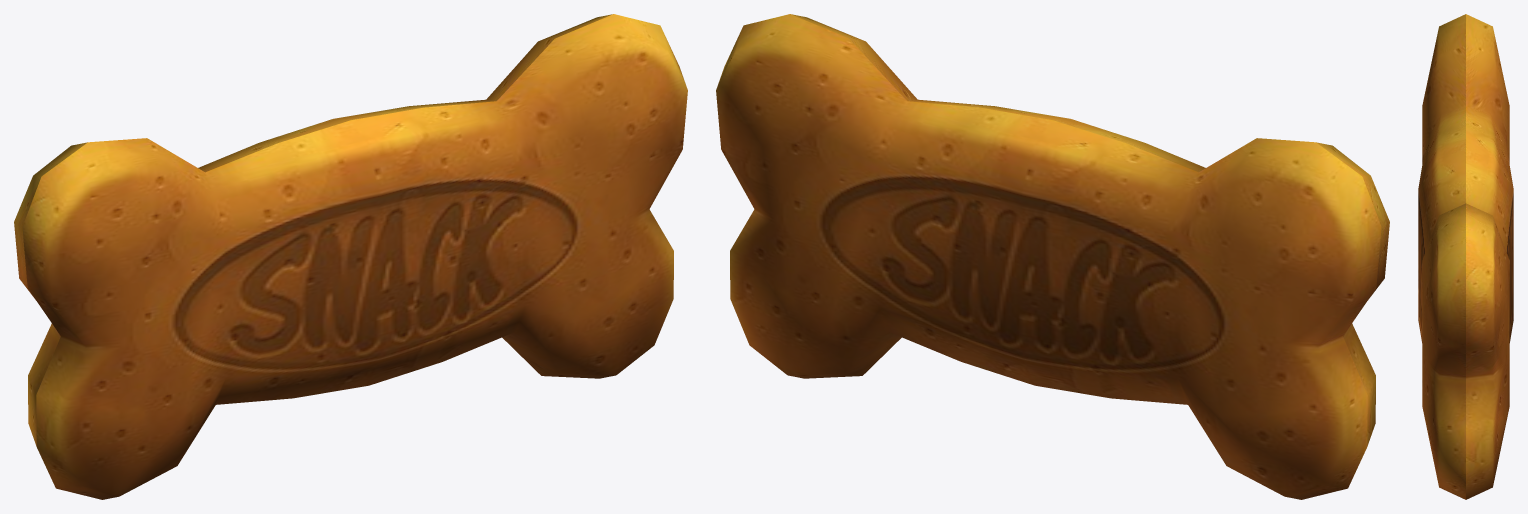
File: snack.obj
3 views of the same model, side by side, from view 1: azimuth 30°, elevation 25°; view 2: azimuth 150°, elevation 25°; view 3: azimuth 270°, elevation 25° (orthographic). The views are drawn at different scales.
Parts seen in each view (by area): view 1: bonenergy; view 2: bonenergy; view 3: bonenergy.
Part boxes in pixels (x1=…): bonenergy: x1=14, y1=14, x2=687, y2=499; bonenergy: x1=716, y1=14, x2=1389, y2=499; bonenergy: x1=1418, y1=14, x2=1513, y2=499.
Bounding box in the file's own units: 3.03 × 1.59 × 0.4796.
1 material, 1 textured.
